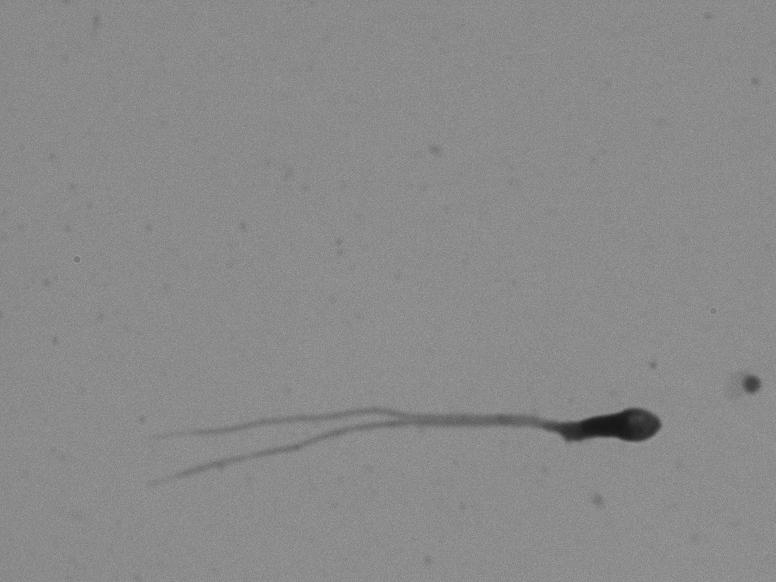Abnormal: (98, 378, 685, 489)
